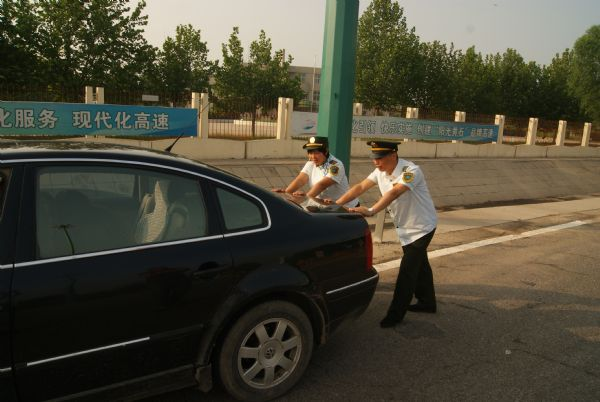other: (328, 123, 464, 328), (274, 130, 373, 286)
